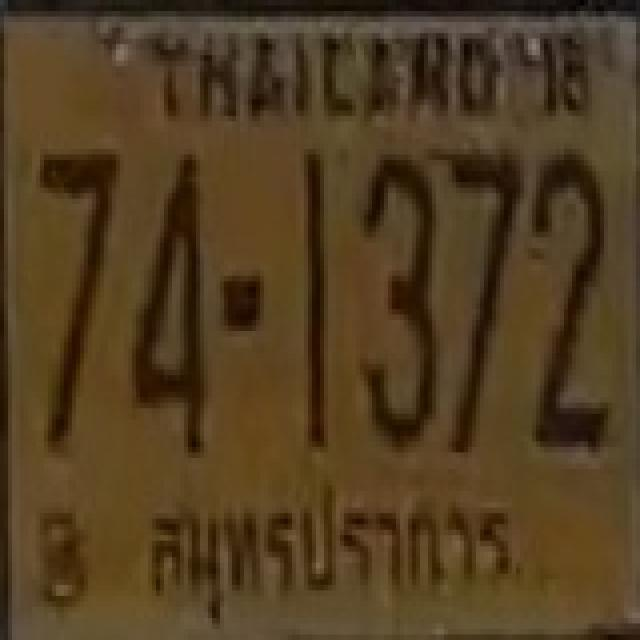1: (304, 149, 324, 408)
2: (530, 149, 602, 408)
3: (358, 149, 434, 441)
4: (128, 149, 204, 447)
7: (36, 149, 116, 430), (446, 149, 518, 447), (36, 146, 116, 400), (36, 146, 116, 334), (448, 149, 520, 325)
SPK: (128, 472, 527, 624)
